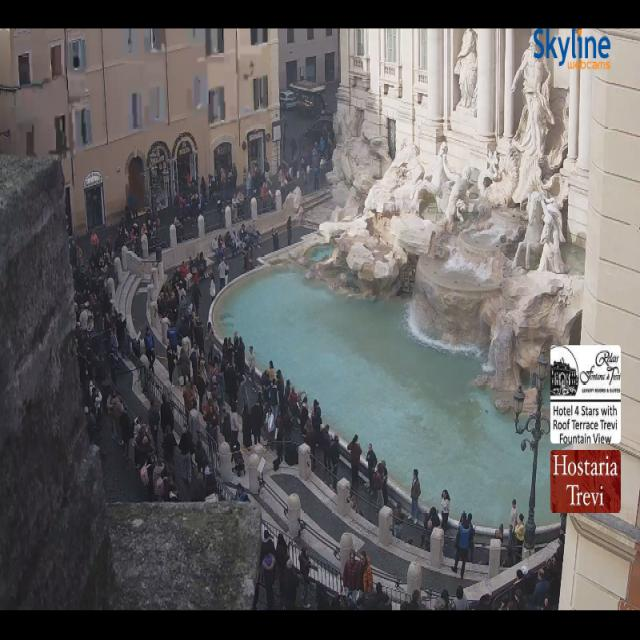person: (79, 294, 129, 365), (294, 392, 331, 469), (89, 297, 129, 358), (281, 387, 321, 447), (159, 272, 183, 355), (512, 559, 551, 610), (168, 281, 194, 352), (141, 454, 178, 501), (231, 338, 254, 407), (176, 300, 203, 356), (170, 276, 192, 343), (76, 275, 99, 337), (90, 378, 115, 435), (168, 304, 193, 356), (90, 383, 110, 447), (131, 418, 155, 468), (452, 513, 470, 579), (194, 344, 219, 391), (175, 175, 201, 219), (204, 368, 219, 439), (76, 322, 91, 393), (319, 586, 363, 610), (174, 432, 193, 487), (208, 328, 226, 386), (276, 147, 302, 186), (280, 150, 308, 186), (175, 300, 193, 355), (74, 294, 88, 364), (208, 356, 225, 412), (248, 372, 270, 415), (260, 361, 283, 402), (508, 590, 555, 610), (280, 138, 304, 177), (280, 558, 298, 610), (503, 523, 524, 567), (288, 386, 309, 430), (88, 294, 110, 336), (317, 586, 355, 610), (180, 347, 204, 385), (514, 566, 535, 608), (420, 507, 440, 550), (108, 387, 123, 444), (343, 550, 359, 602), (133, 207, 151, 253), (265, 370, 286, 408), (261, 553, 275, 610), (135, 425, 153, 468), (532, 569, 551, 608), (208, 169, 230, 202), (547, 554, 562, 602), (150, 459, 167, 501), (299, 549, 311, 608), (364, 582, 389, 610), (348, 435, 361, 488), (224, 363, 238, 411), (134, 418, 147, 468), (304, 419, 316, 471), (90, 386, 103, 434), (208, 357, 219, 412), (148, 399, 160, 449), (188, 357, 199, 411), (296, 392, 312, 429), (251, 395, 263, 444), (116, 313, 129, 358), (120, 412, 133, 457), (282, 412, 294, 458), (360, 550, 372, 596), (160, 396, 174, 435), (276, 533, 289, 575), (258, 370, 271, 412), (366, 444, 377, 493), (189, 253, 206, 284), (157, 288, 170, 328), (330, 434, 339, 491), (204, 388, 217, 427), (144, 326, 155, 371), (355, 555, 364, 610), (260, 529, 275, 562), (552, 533, 563, 577), (91, 247, 107, 277), (507, 590, 531, 610), (196, 440, 208, 480), (411, 470, 420, 523), (112, 228, 126, 262), (246, 162, 260, 196), (215, 365, 226, 408), (545, 554, 561, 583), (232, 192, 249, 219), (119, 205, 131, 243), (371, 465, 382, 506), (515, 514, 525, 559), (276, 370, 286, 415), (210, 169, 226, 197), (84, 406, 96, 443), (238, 375, 249, 415), (180, 346, 191, 386), (220, 408, 232, 444), (205, 322, 215, 365), (376, 582, 391, 610), (196, 370, 206, 412), (88, 302, 101, 334), (378, 461, 387, 506), (231, 192, 244, 223), (311, 400, 322, 436), (242, 404, 251, 448), (205, 466, 218, 496), (323, 130, 335, 162), (259, 370, 271, 402), (163, 474, 177, 501), (441, 489, 450, 531), (90, 353, 104, 380), (508, 595, 533, 610), (269, 381, 279, 418), (393, 502, 403, 539), (509, 500, 517, 546), (425, 507, 440, 531), (236, 337, 245, 376), (468, 513, 475, 562), (288, 386, 299, 417), (192, 283, 202, 317), (454, 586, 468, 610), (350, 492, 363, 517), (322, 125, 334, 152), (435, 590, 451, 610), (261, 370, 271, 402), (178, 280, 187, 315), (194, 253, 206, 279), (212, 236, 224, 262), (198, 350, 207, 384), (130, 223, 140, 253), (168, 325, 177, 358), (167, 348, 175, 385), (189, 350, 198, 382), (219, 258, 228, 290), (300, 148, 308, 184), (514, 566, 527, 588), (189, 257, 199, 285), (502, 547, 516, 567), (105, 238, 115, 266), (109, 325, 118, 355), (276, 426, 283, 464), (300, 397, 308, 430), (556, 532, 564, 565), (80, 303, 89, 332), (327, 132, 336, 161), (408, 590, 421, 610), (231, 412, 239, 444), (230, 229, 239, 257), (230, 331, 239, 358), (228, 165, 237, 192), (311, 143, 320, 170), (279, 163, 289, 187), (69, 238, 77, 268), (174, 215, 183, 241), (244, 167, 252, 196), (514, 589, 525, 610), (236, 483, 248, 502), (129, 194, 138, 219), (497, 594, 511, 610), (477, 594, 491, 610), (198, 253, 207, 277), (356, 594, 368, 610), (200, 176, 206, 208), (243, 244, 250, 271), (312, 143, 319, 168), (283, 379, 291, 400), (261, 183, 267, 210), (290, 138, 297, 161), (495, 524, 503, 544), (272, 228, 279, 250), (76, 245, 83, 267), (239, 224, 247, 243), (248, 245, 254, 270), (151, 220, 158, 241), (268, 361, 275, 382), (319, 135, 325, 159), (91, 231, 99, 248), (314, 163, 319, 190), (320, 157, 325, 183), (180, 262, 187, 280), (319, 96, 326, 113), (287, 216, 291, 245), (210, 276, 215, 299), (288, 163, 294, 182), (507, 599, 517, 610)
